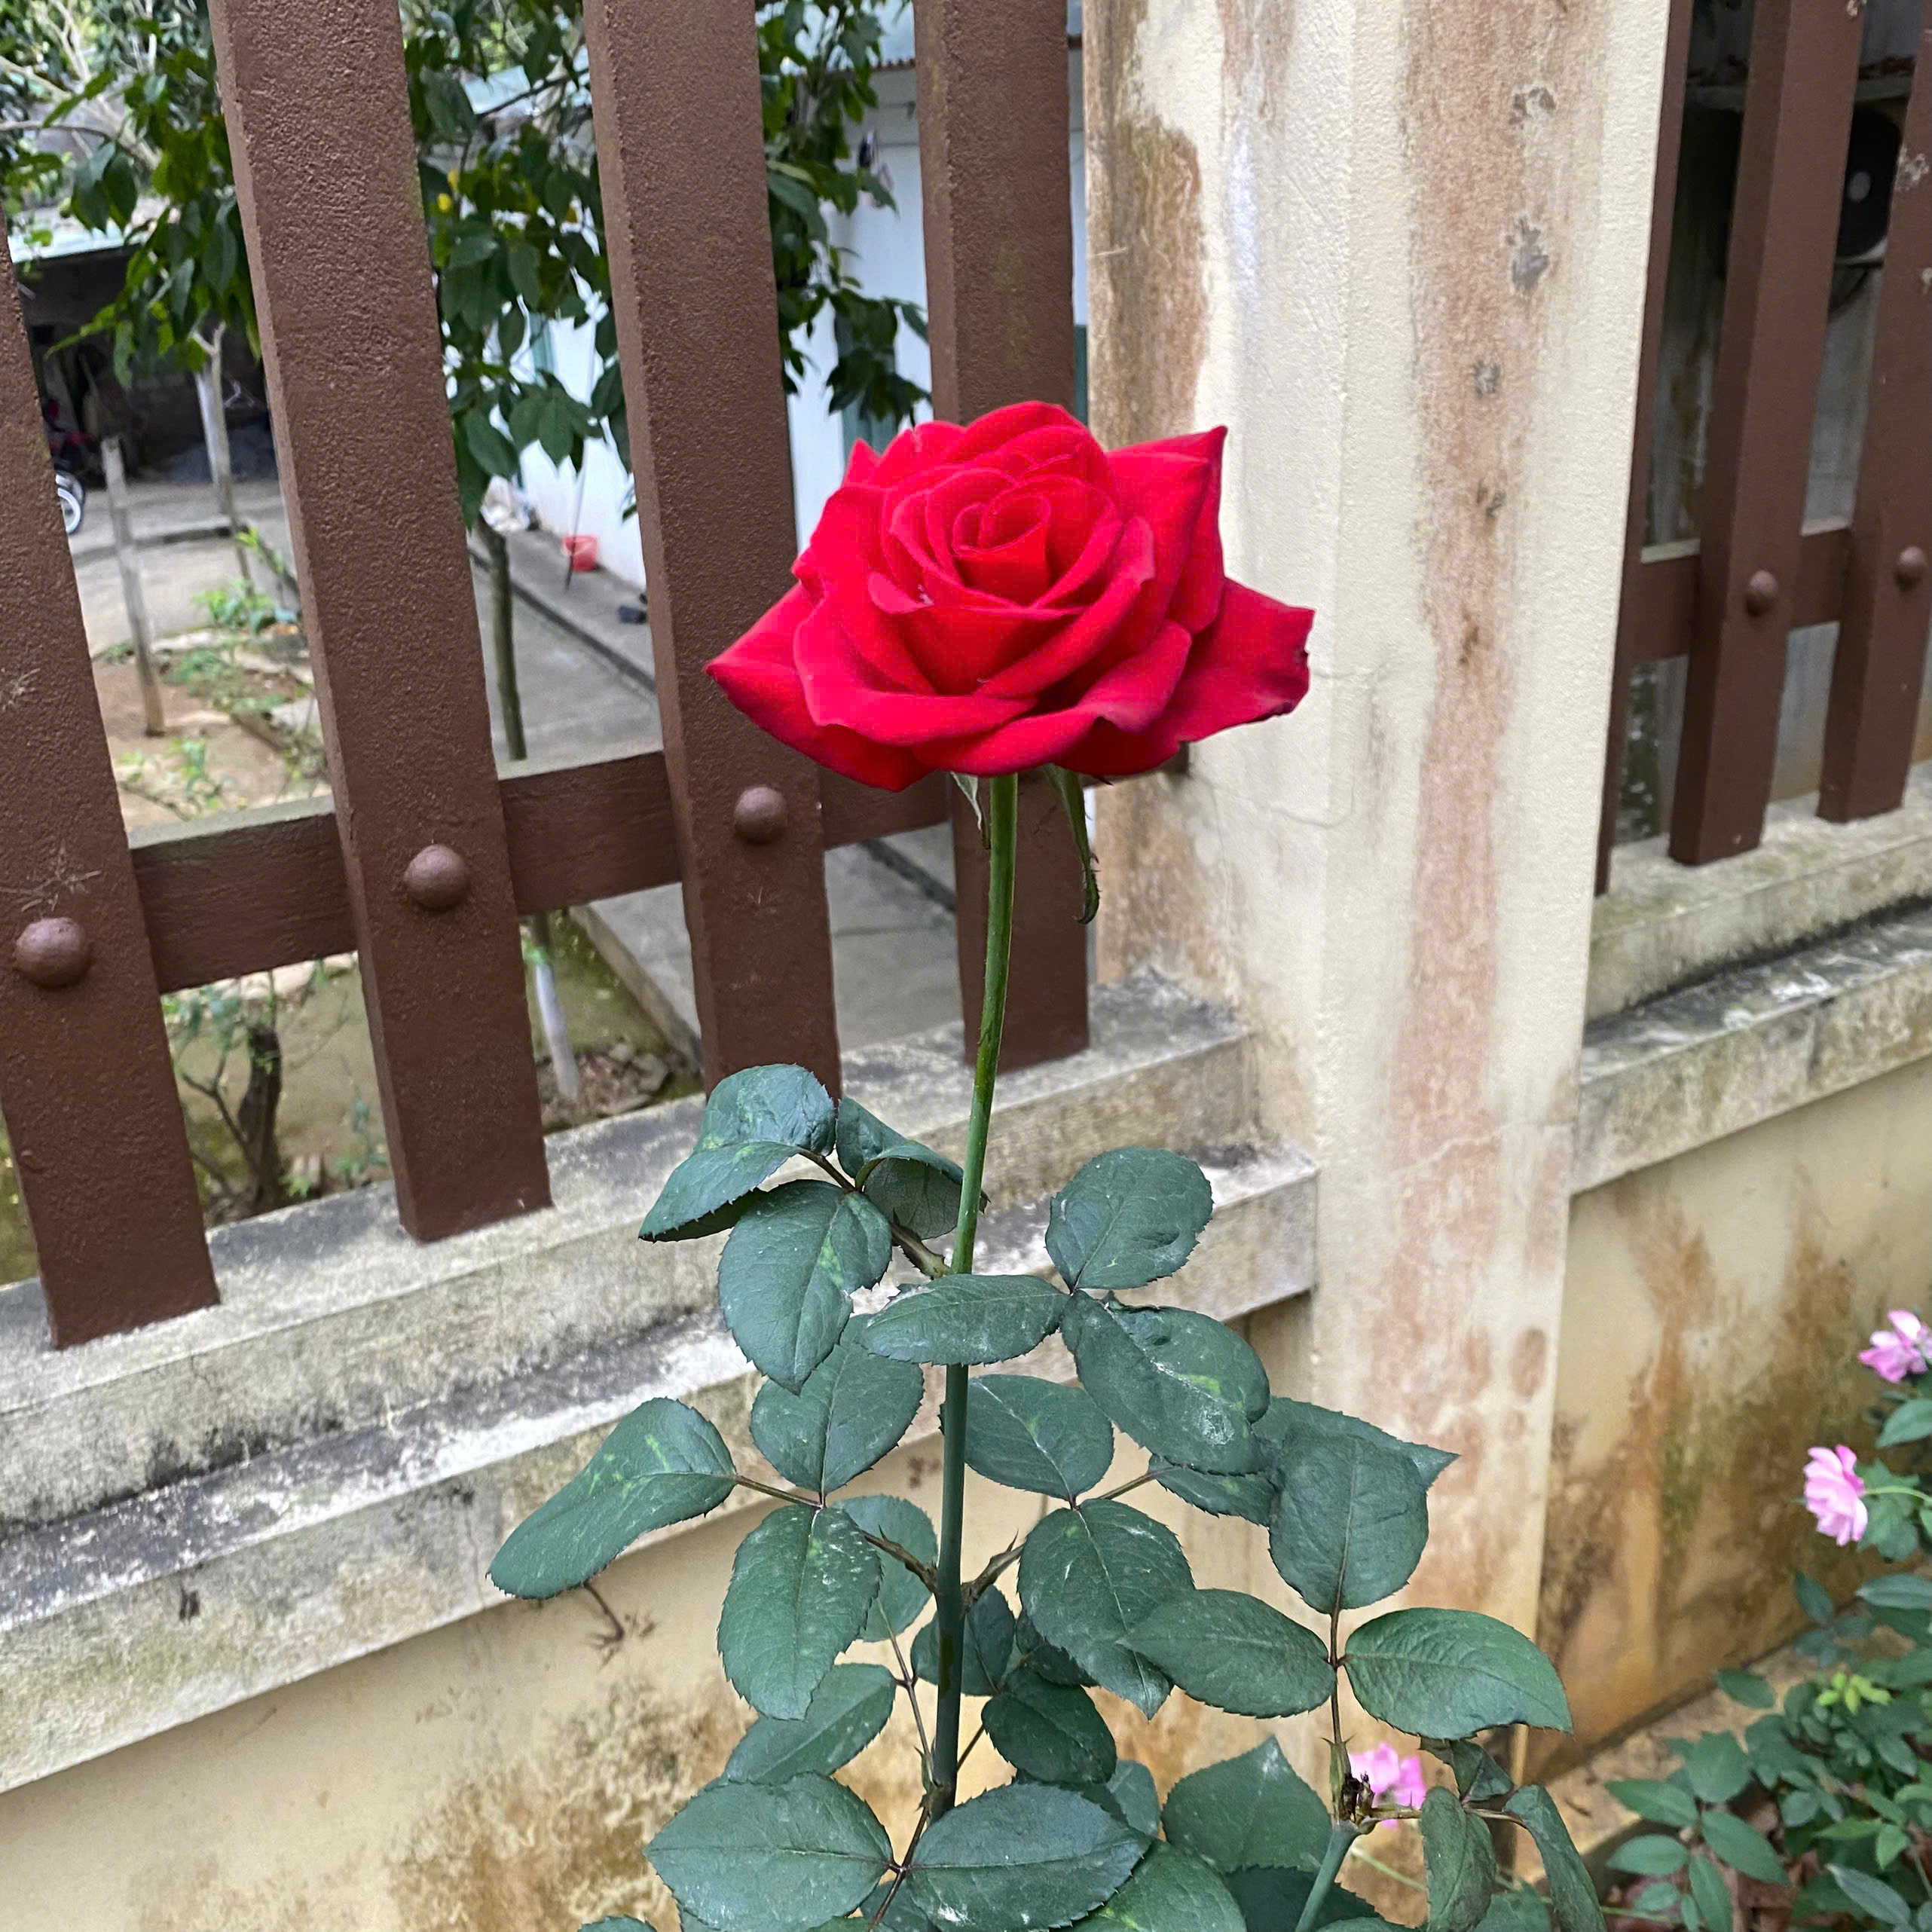hoa_hong_do: (513, 382, 1553, 1932)
